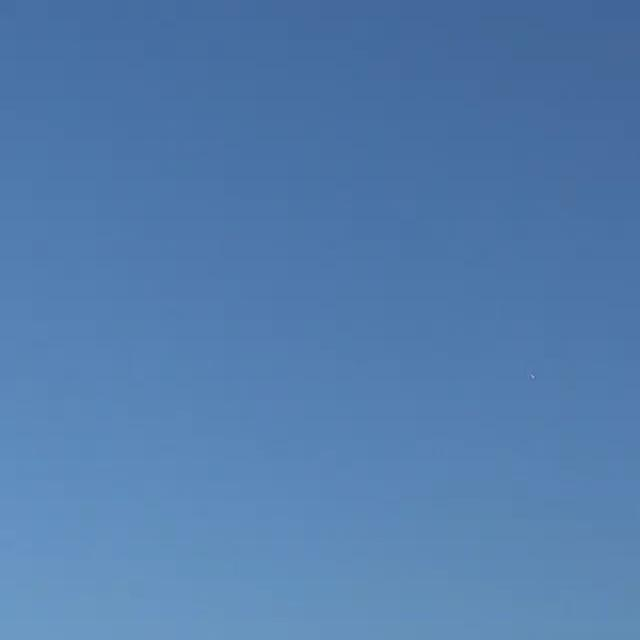AirPlane: (520, 360, 545, 392)
